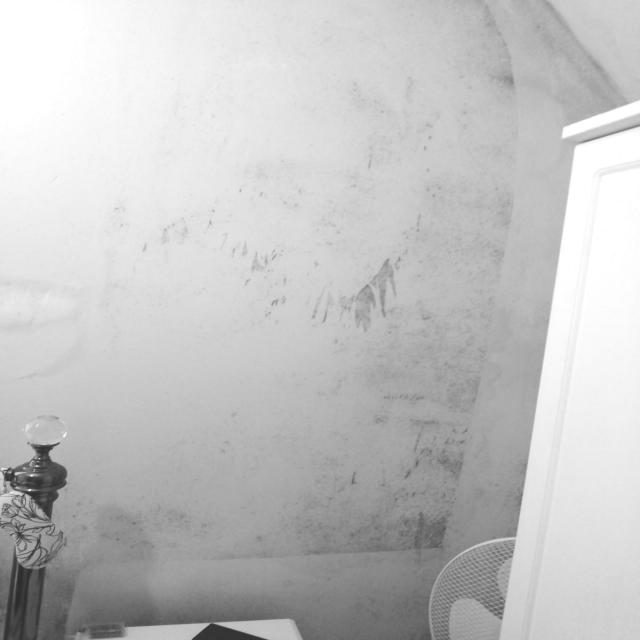stain marks: (0, 131, 328, 482), (332, 12, 512, 557), (54, 487, 340, 568), (523, 6, 616, 118)
